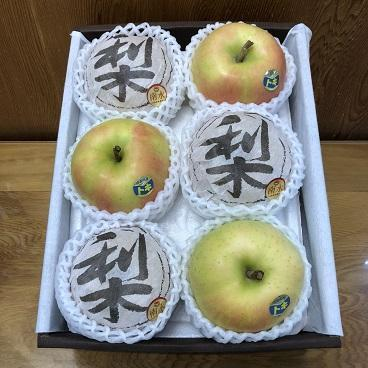apple: (185, 218, 306, 335), (70, 117, 173, 216), (188, 22, 288, 106)
